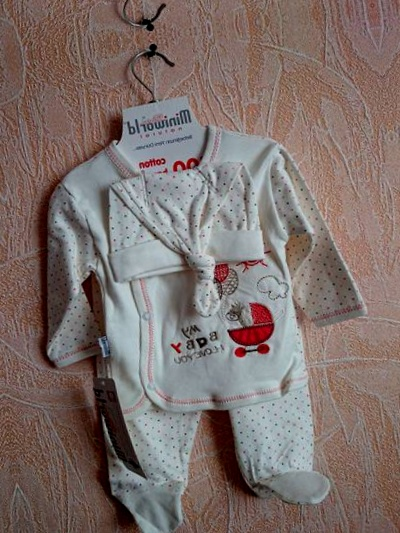Body: (7, 58, 400, 533), (0, 0, 323, 12)
